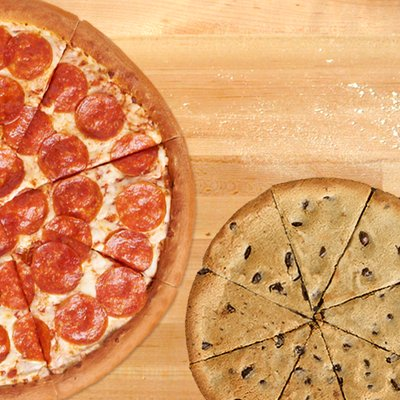curry: (2, 2, 400, 398)
sandwich: (0, 3, 182, 391), (185, 178, 400, 399)
